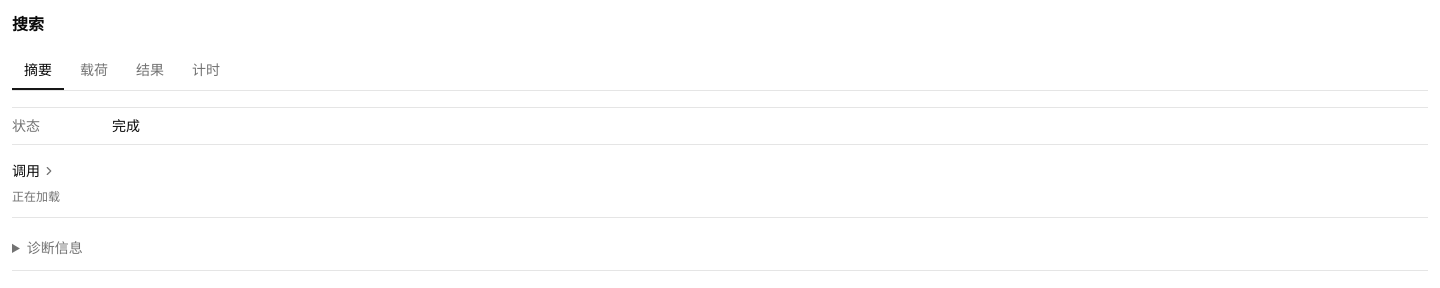
it: TrajectoryNodeDetailPanel › 损坏的工具快照显示记录损坏而不是关联失败
Click the tab "结果": (150, 71) x1=124 y1=52 x2=176 y2=90
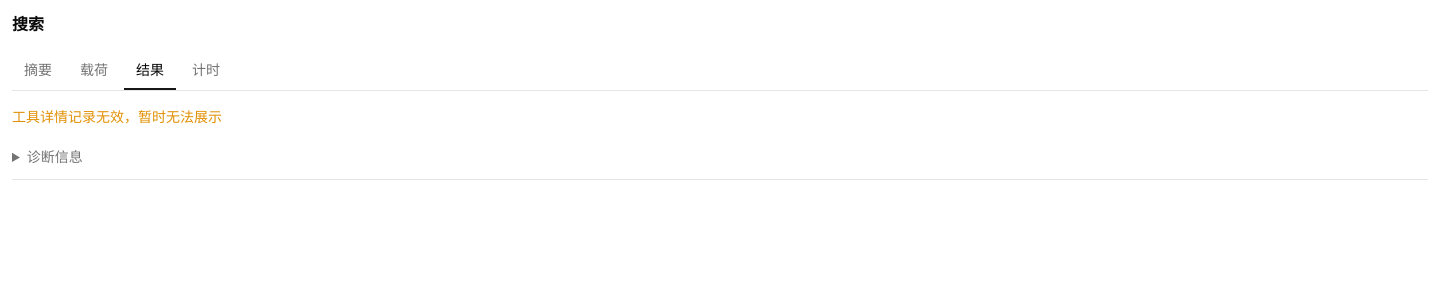
Result: the text "工具详情记录无效，暂时无法展示" is shown at x1=12 y1=107 x2=222 y2=126
